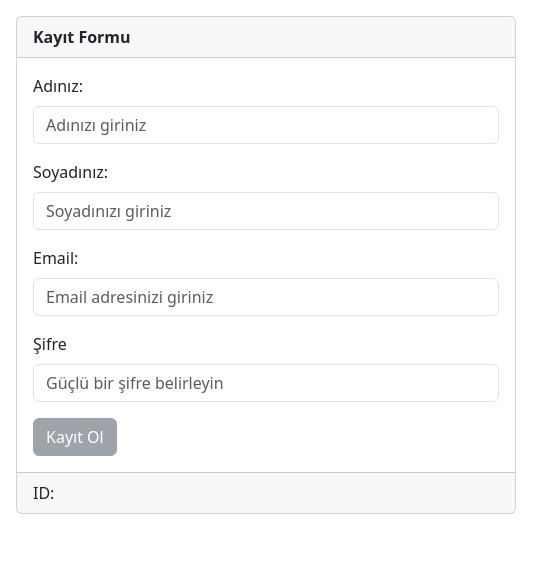
it: Register Page › Error Messages › Password input throws error for 2 chars
This screenshot has width=533, height=577.
In the password field with test id "password-input": (266, 383) top-left (33, 364), bottom-right (499, 402), type "1234"
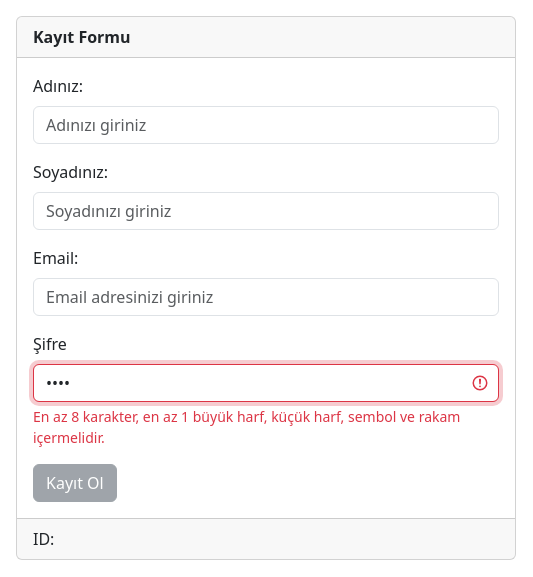
Now the text "En az 8 karakter, en az 1 büyük harf, küçük harf, sembol ve rakam içermelidir." is shown, box top-left (33, 406), bottom-right (499, 448)
